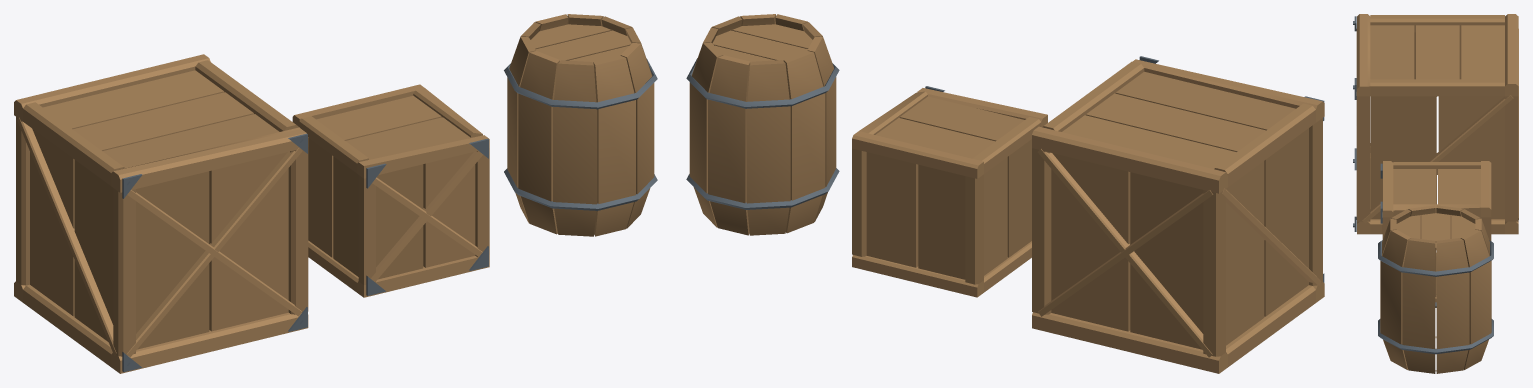
The model's file is CrateSet.glb.
3 views of the same model, side by side, from view 1: azimuth 30°, elevation 25°; view 2: azimuth 150°, elevation 25°; view 3: azimuth 270°, elevation 25° (orthographic). The views are drawn at different scales.
Visible parts, largest first — view 1: Crate3_Wood, Crate2_Wood, Barrel_Wood, Barrel_Charcoal, Crate3_Charcoal, Crate2_Charcoal; view 2: Crate3_Wood, Crate2_Wood, Barrel_Wood, Barrel_Charcoal; view 3: Crate3_Wood, Barrel_Wood, Crate2_Wood, Barrel_Charcoal, Crate3_Charcoal.
Part boxes in pixels (x1=…): Crate3_Wood: x1=14, y1=54, x2=308, y2=373; Crate2_Wood: x1=292, y1=84, x2=489, y2=297; Barrel_Wood: x1=507, y1=14, x2=654, y2=236; Barrel_Charcoal: x1=504, y1=58, x2=657, y2=210; Crate3_Charcoal: x1=122, y1=133, x2=307, y2=372; Crate2_Charcoal: x1=366, y1=138, x2=488, y2=295; Crate3_Wood: x1=1032, y1=59, x2=1324, y2=373; Crate2_Wood: x1=852, y1=88, x2=1047, y2=297; Barrel_Wood: x1=689, y1=14, x2=836, y2=235; Barrel_Charcoal: x1=686, y1=58, x2=839, y2=209; Crate3_Wood: x1=1356, y1=14, x2=1518, y2=234; Barrel_Wood: x1=1380, y1=205, x2=1491, y2=373; Crate2_Wood: x1=1382, y1=161, x2=1491, y2=307; Barrel_Charcoal: x1=1378, y1=240, x2=1493, y2=354; Crate3_Charcoal: x1=1353, y1=16, x2=1356, y2=231.
Bounding box in the file's own units: 9.2 × 3 × 3.
